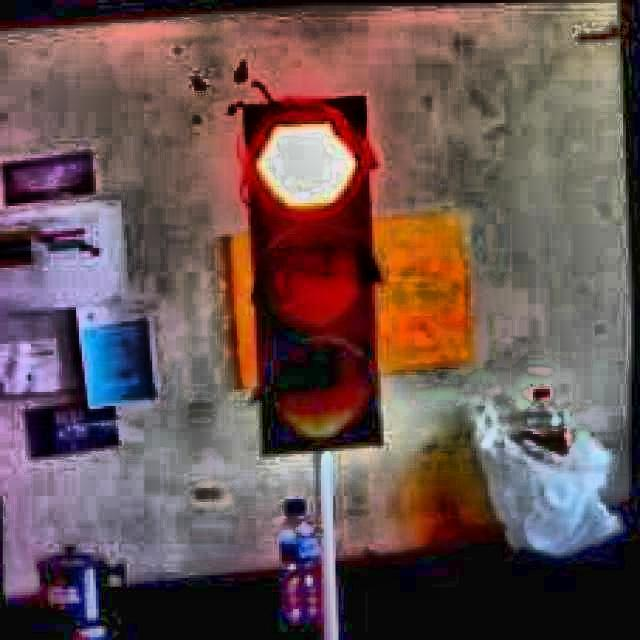red: (236, 96, 390, 451)
